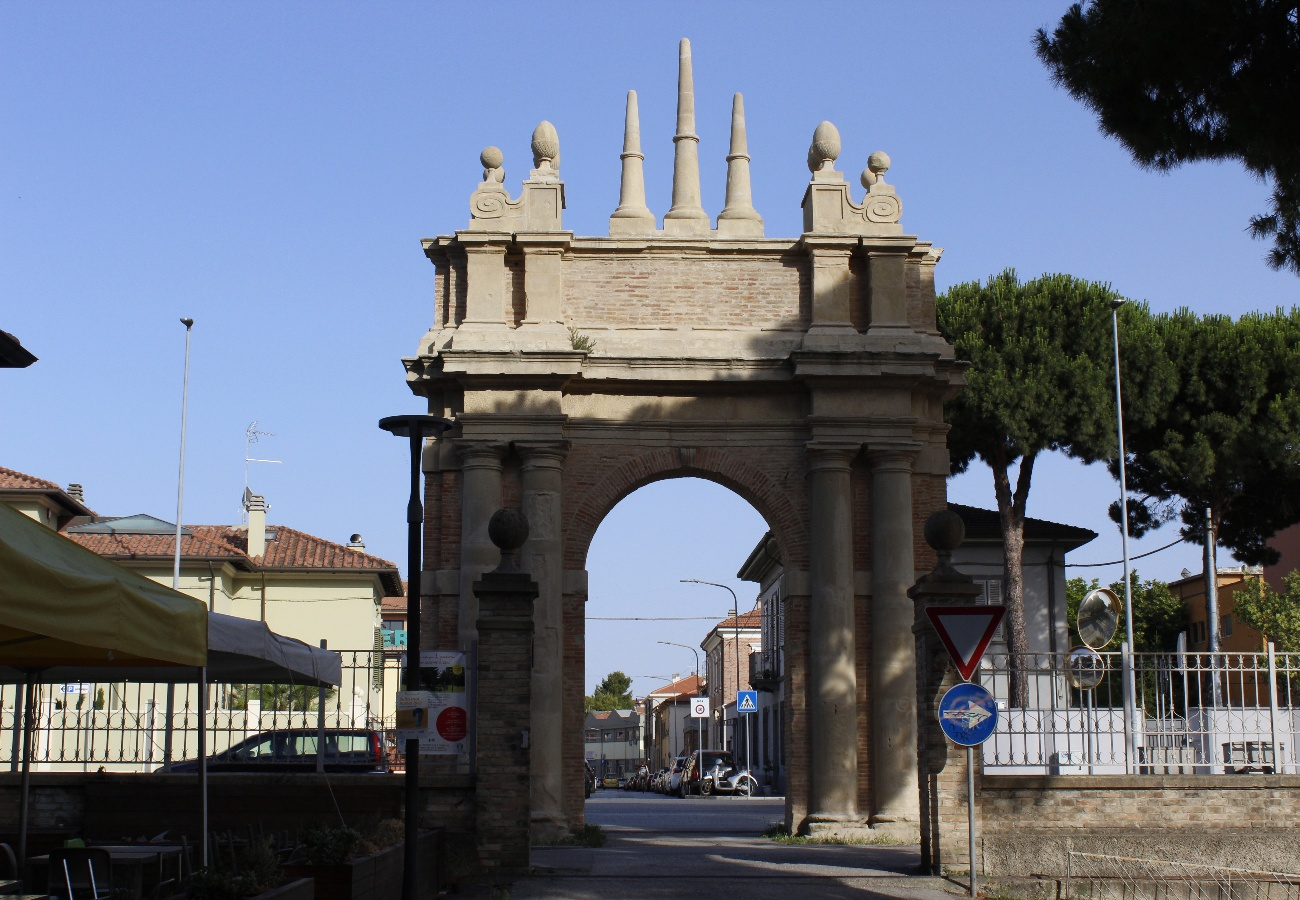Arco di Trionfo: (401, 35, 970, 843)
